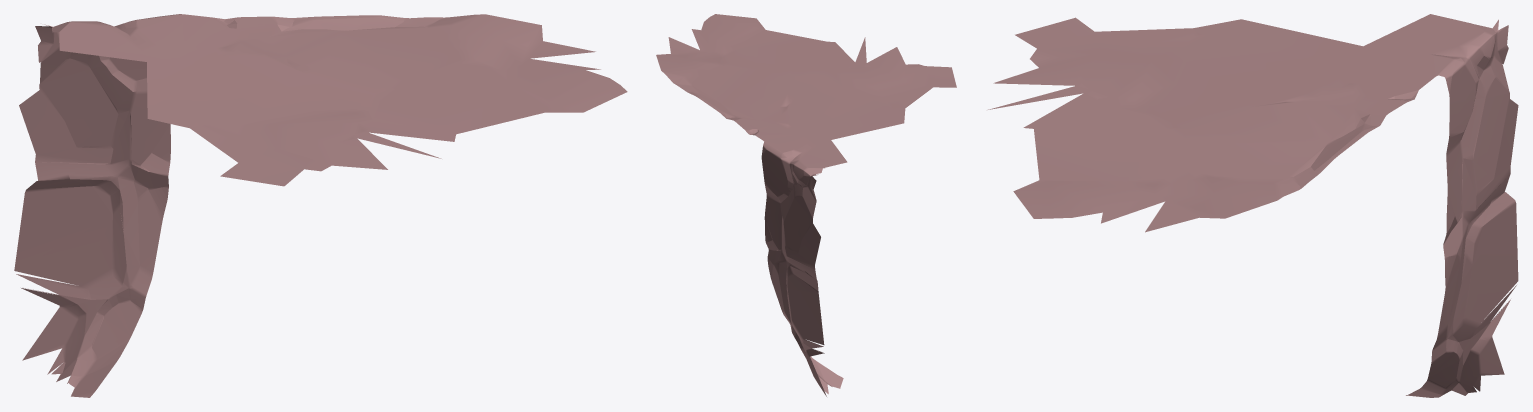
Rendered from pleateauArea1.fbx_PolyShape__46__009LODs.fbx.
3 views of the same model, side by side, from view 1: azimuth 30°, elevation 25°; view 2: azimuth 150°, elevation 25°; view 3: azimuth 270°, elevation 25° (orthographic). The views are drawn at different scales.
Visible parts, largest first — view 1: PolyShape (46).009_LOD0; view 2: PolyShape (46).009_LOD0; view 3: PolyShape (46).009_LOD0.
Part boxes in pixels (box(x1,y1,x2,y2)): PolyShape (46).009_LOD0: box(14, 14, 627, 397); PolyShape (46).009_LOD0: box(656, 14, 956, 396); PolyShape (46).009_LOD0: box(988, 14, 1518, 397).
Size of what is drawn, in the model's own units: 4653 by 3821 by 4830.
